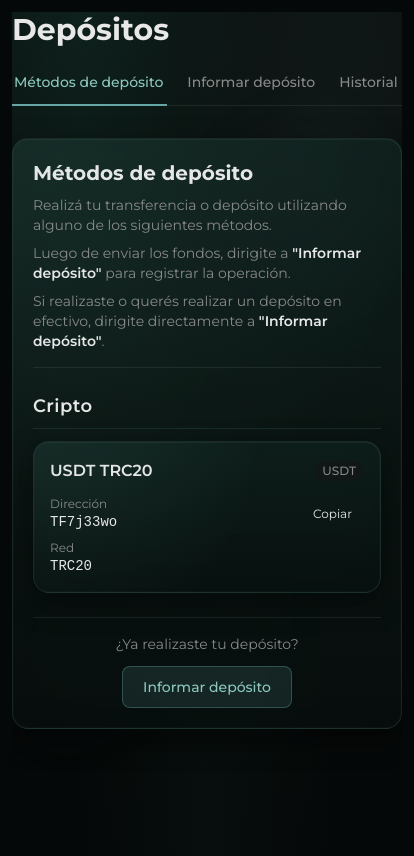
Test: WalletsPage › shows deposit rows in history when deposits exist
Click the button "Historial" at (368, 89), box left=335, top=72, right=402, bottom=106
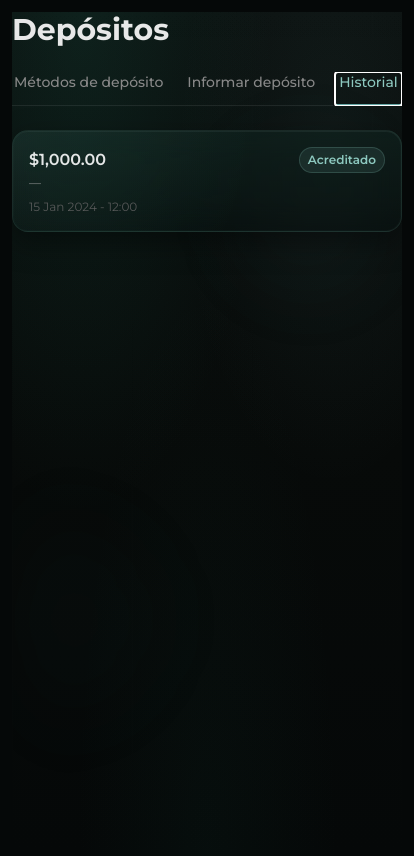
Result: the text "$1,000.00" is shown at left=29, top=147, right=106, bottom=173
